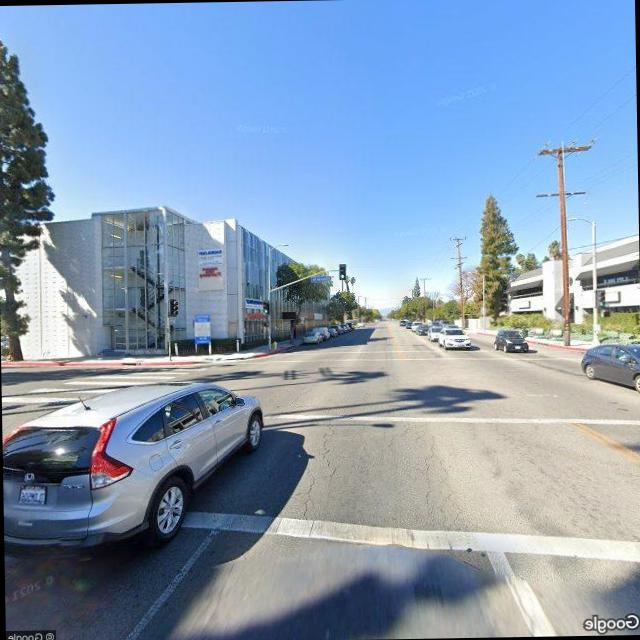pothole: (290, 398, 346, 526), (414, 398, 460, 534)
